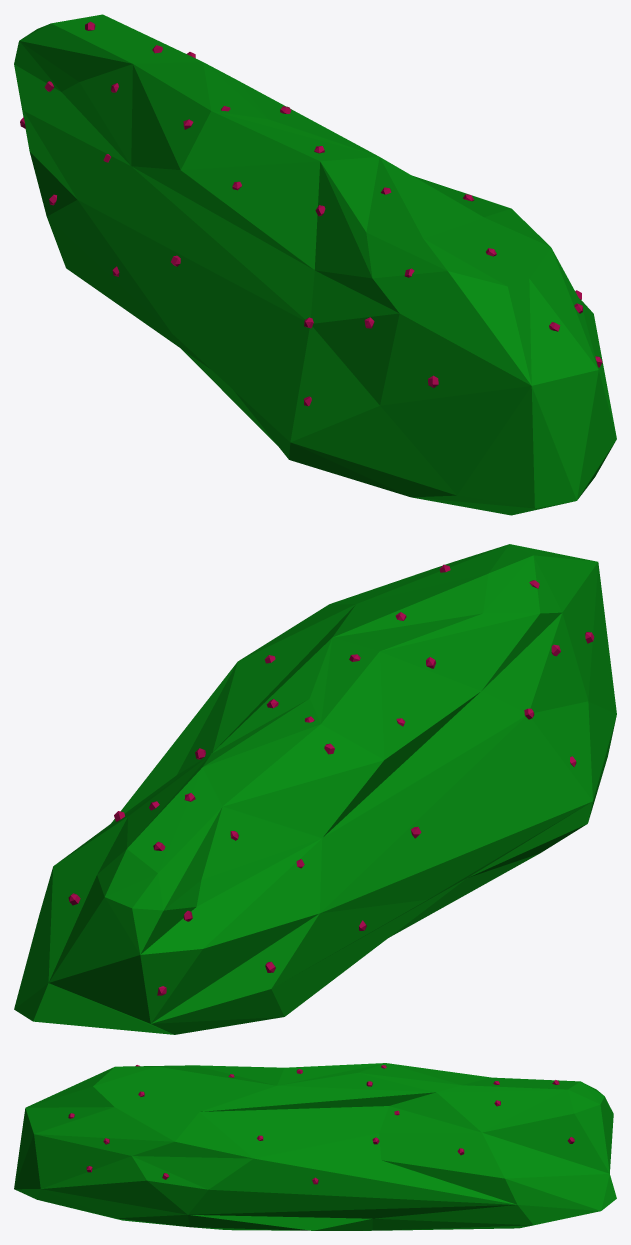
File: SM_LongBerryBush.fbx
The picture shows the model from 3 angles, top to bottom: view 1: azimuth 30°, elevation 25°; view 2: azimuth 150°, elevation 25°; view 3: azimuth 270°, elevation 25°; orthographic projection. The views are drawn at different scales.
Visible parts, largest first — view 1: group9_pSphere22; view 2: group9_pSphere22; view 3: group9_pSphere22.
Boxes of the visible parts, x1,y1,x2,y2 form: group9_pSphere22: (14,14,616,515); group9_pSphere22: (14,544,616,1034); group9_pSphere22: (14,1063,616,1230).
Size of the model in its own units: 274 by 200 by 789.
